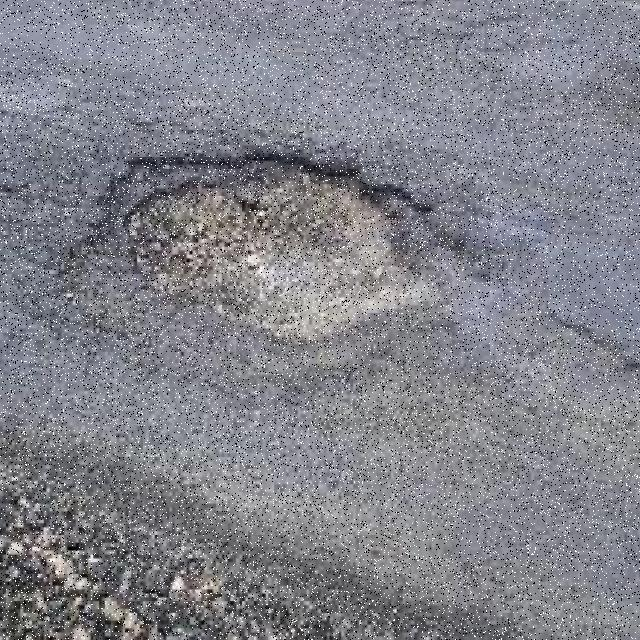pothole: (85, 138, 461, 352)
